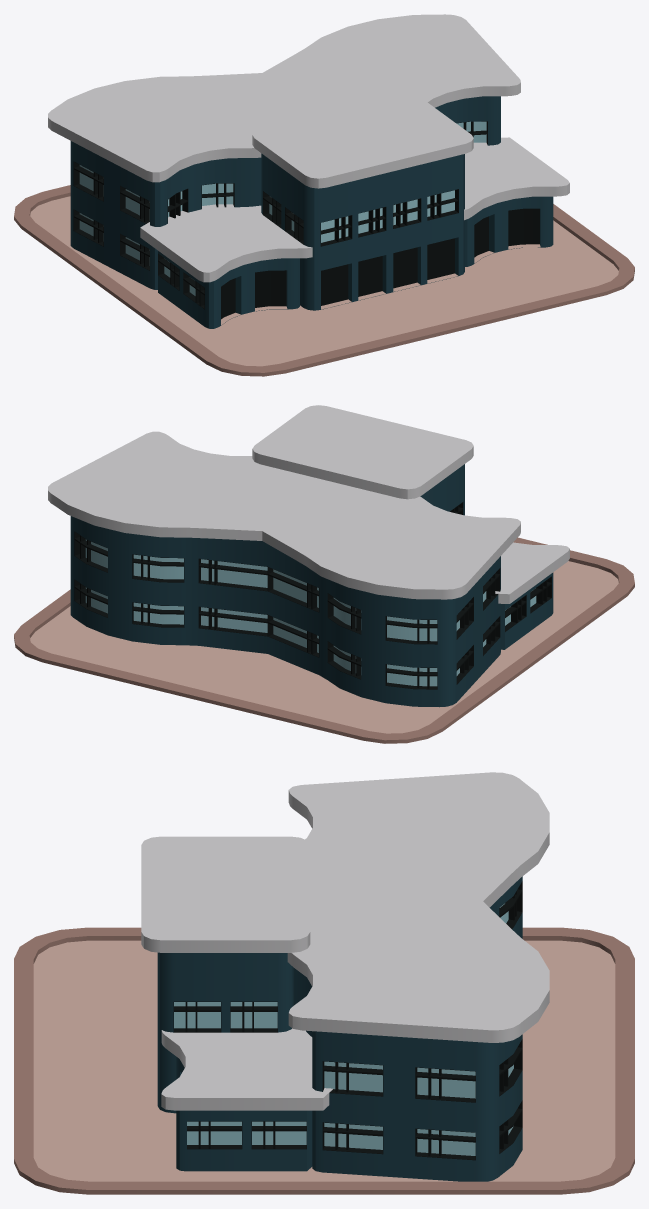
Rendered from Humanas_Level_02.fbx.
3 views of the same model, one above another, from view 1: azimuth 30°, elevation 25°; view 2: azimuth 150°, elevation 25°; view 3: azimuth 270°, elevation 25° (orthographic). The views are drawn at different scales.
Parts seen in each view (by area): view 1: Humanas_Level_02; view 2: Humanas_Level_02; view 3: Humanas_Level_02.
Boxes of the visible parts, x1=… form: Humanas_Level_02: x1=14, y1=14, x2=634, y2=376; Humanas_Level_02: x1=14, y1=405, x2=634, y2=743; Humanas_Level_02: x1=14, y1=772, x2=634, y2=1194.
Size of the model in its own units: 2000 by 622 by 2000.
